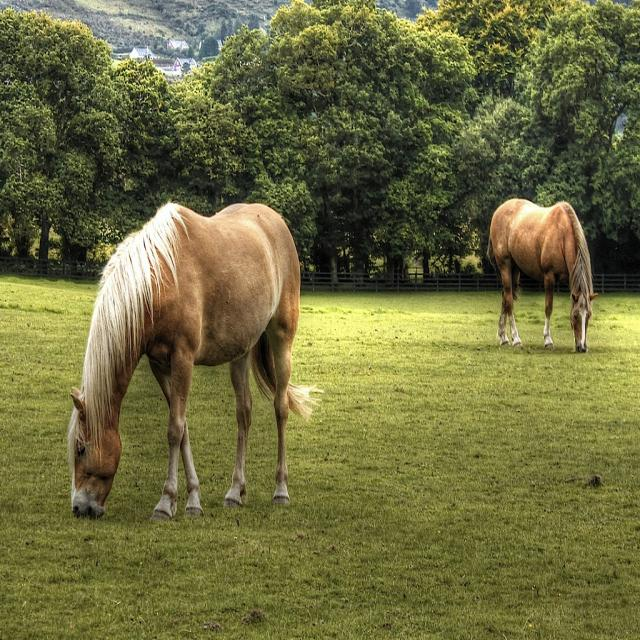Horse: (67, 203, 320, 526), (483, 200, 600, 350)
